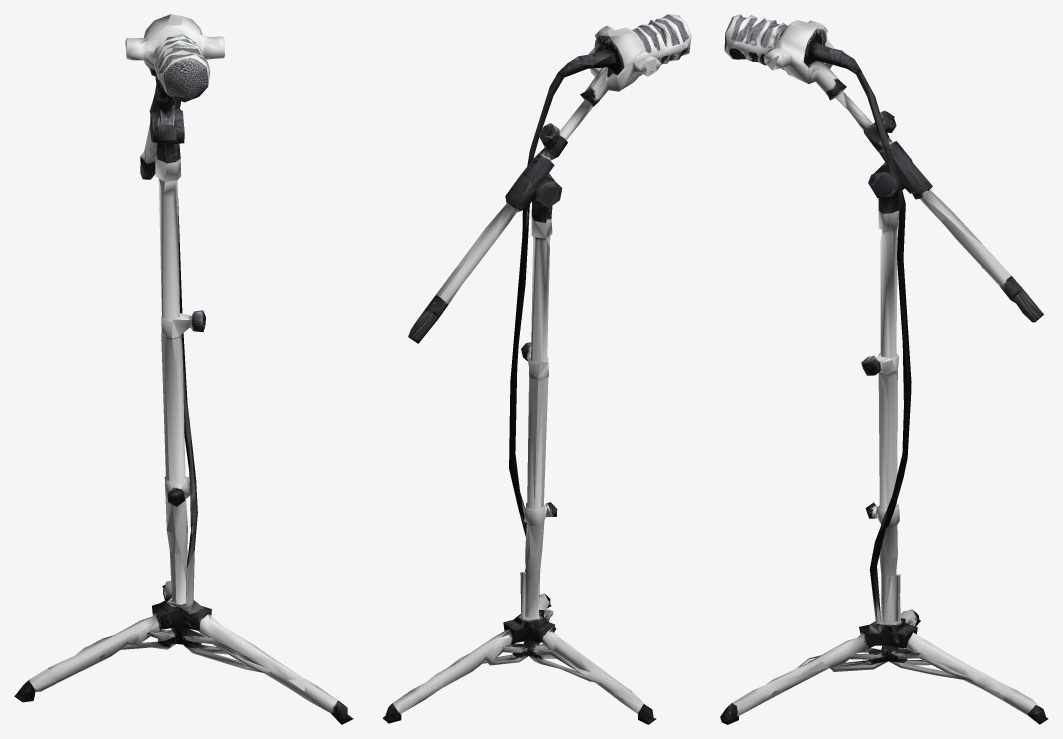
File: rode.fbx
3 renders of one model, left to right at view 1: azimuth 30°, elevation 25°; view 2: azimuth 150°, elevation 25°; view 3: azimuth 270°, elevation 25°, orthographic. The views are drawn at different scales.
Visible parts, largest first — view 1: tripo_node_07f39073; view 2: tripo_node_07f39073; view 3: tripo_node_07f39073.
Part boxes in pixels (x1,y1,x2,y2): tripo_node_07f39073: (14,14,353,724); tripo_node_07f39073: (382,14,691,724); tripo_node_07f39073: (720,14,1048,724).
Size of the model in its own units: 34.2 by 97.93 by 45.56.
